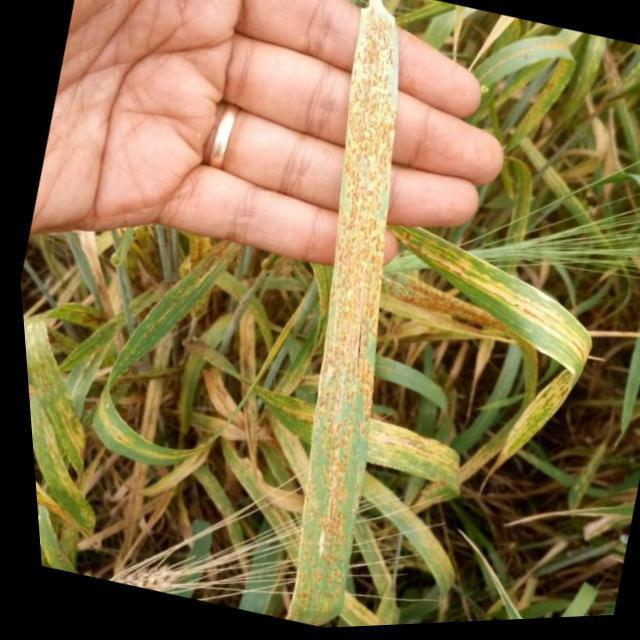Stem Rust: (275, 0, 397, 629)
